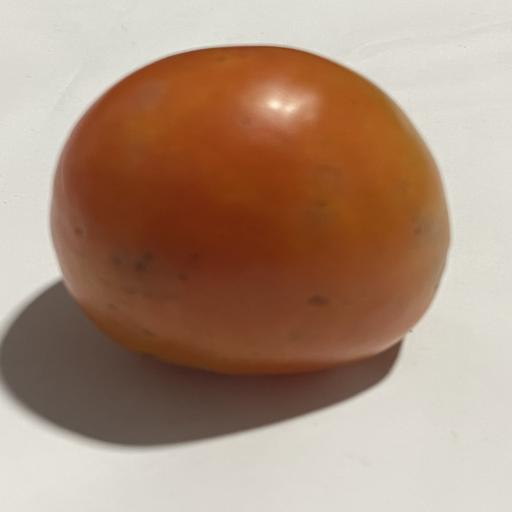unripe: (51, 46, 449, 374)
